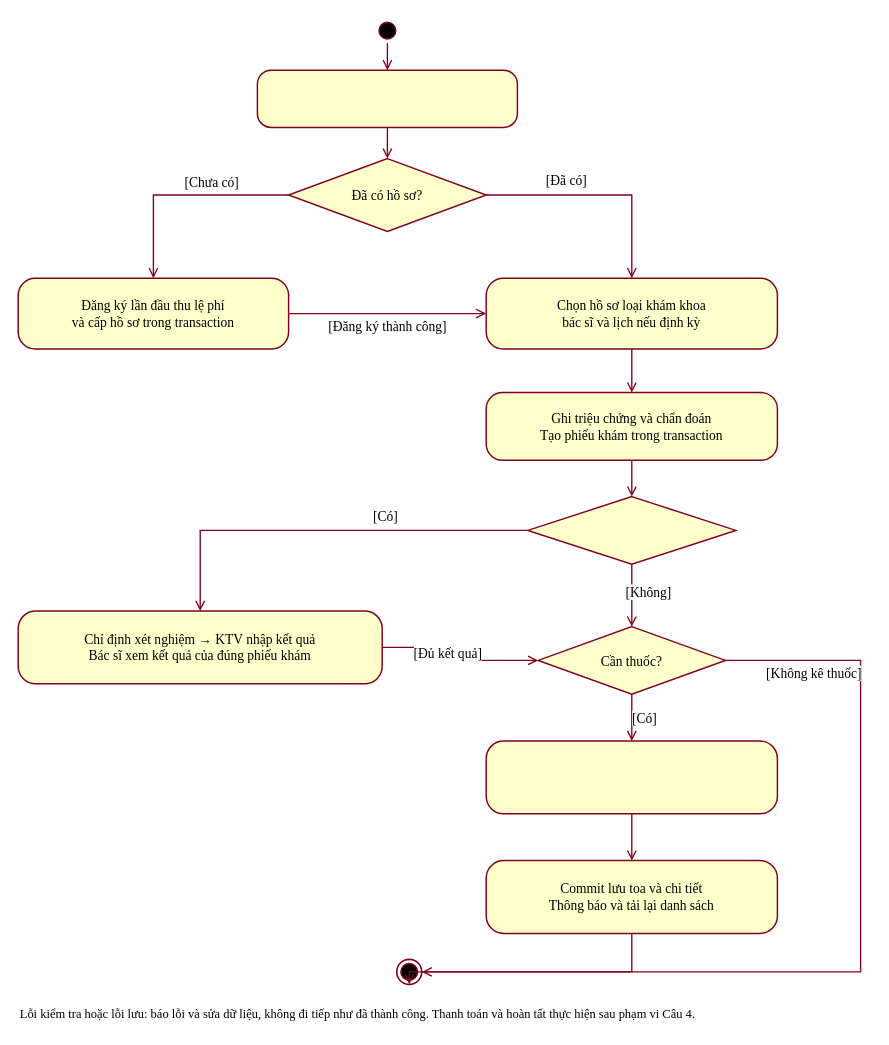
Image size: 889x1045. Some labels were removed from this diagram. The shapes that lost their labels are listed below. From the top down, each one's centre as x and y in pixels, then its label:
At [387,98]: "Tiếp nhận tra cứu hồ sơ".
At [631,529]: "Cần xét nghiệm?".
At [631,777]: "Chọn thuốc nhập số lượng liều dùng cách dùng và lời dặn".
